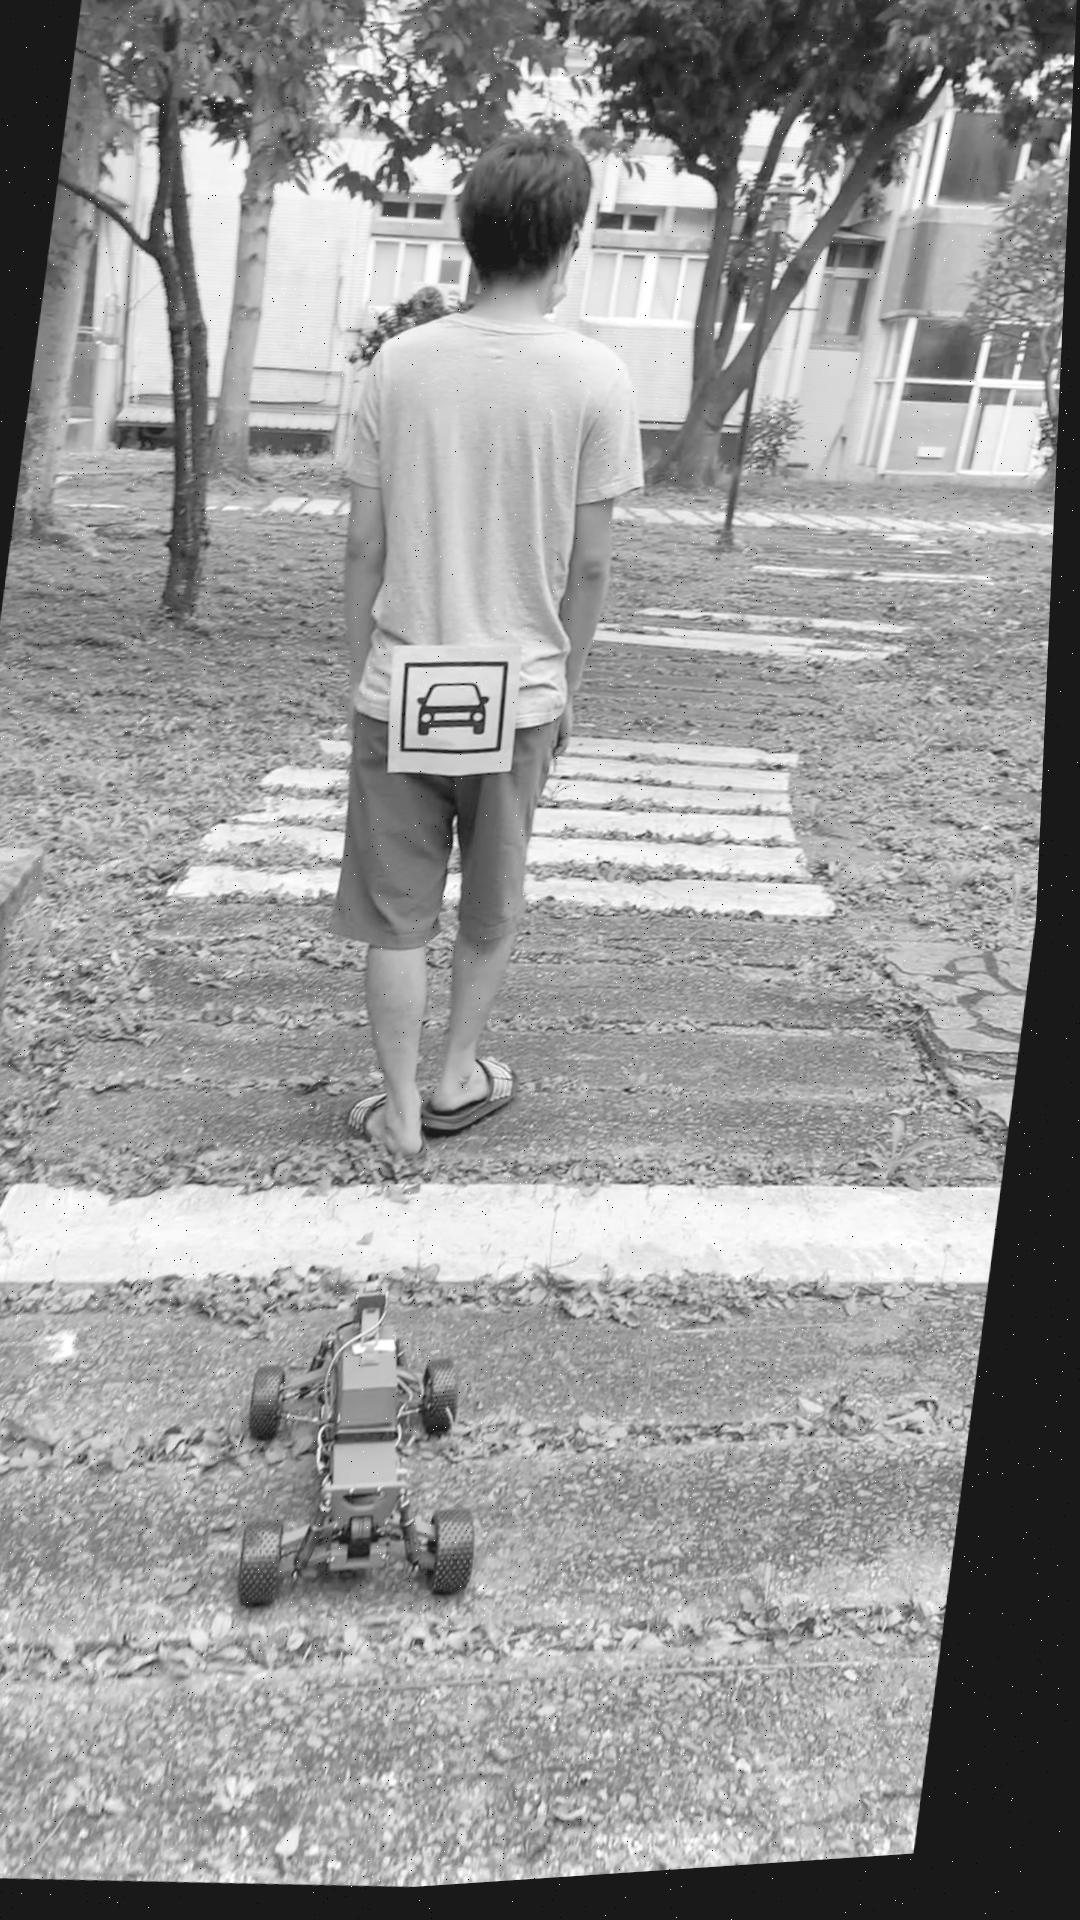car_img: (400, 659, 520, 769)
